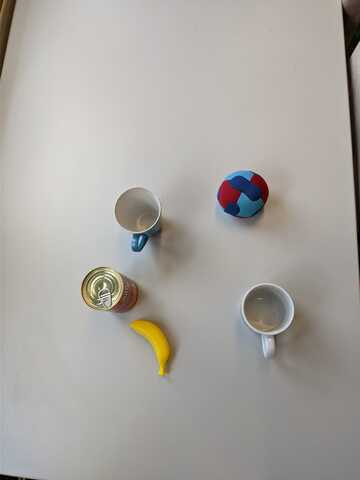005_tomato_soup_can: (80, 267, 141, 315)
011_banana: (128, 319, 174, 380)
025_mug: (242, 282, 297, 359), (114, 183, 164, 255)
057_racquetball: (217, 170, 271, 218)
